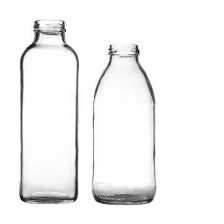bottle: (89, 36, 167, 206), (16, 15, 85, 206)
